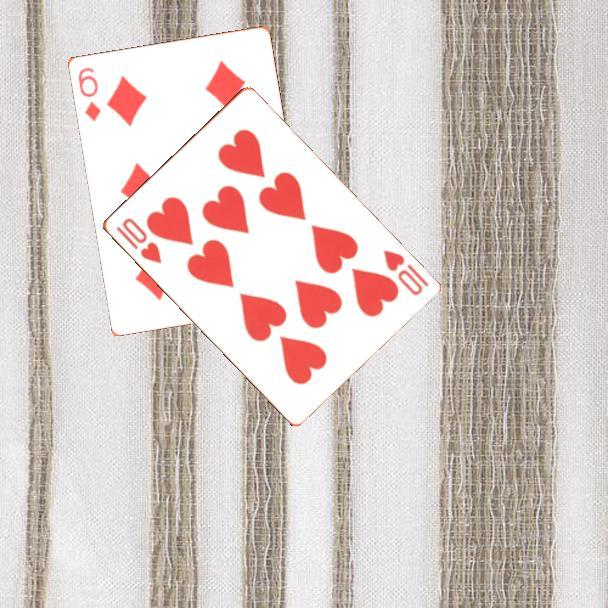d06: (74, 64, 103, 124)
h10: (379, 246, 432, 299), (112, 214, 164, 267)
